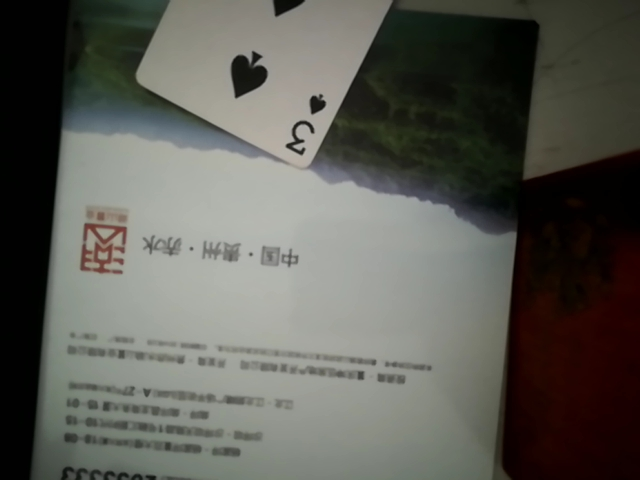ht 3: (108, 0, 439, 172)
